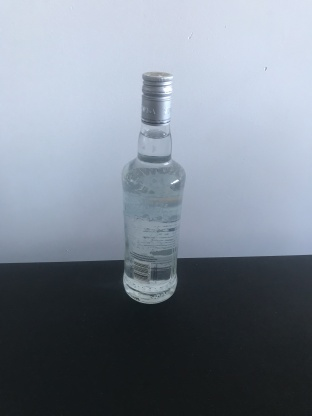nakretka: (139, 69, 174, 128)
